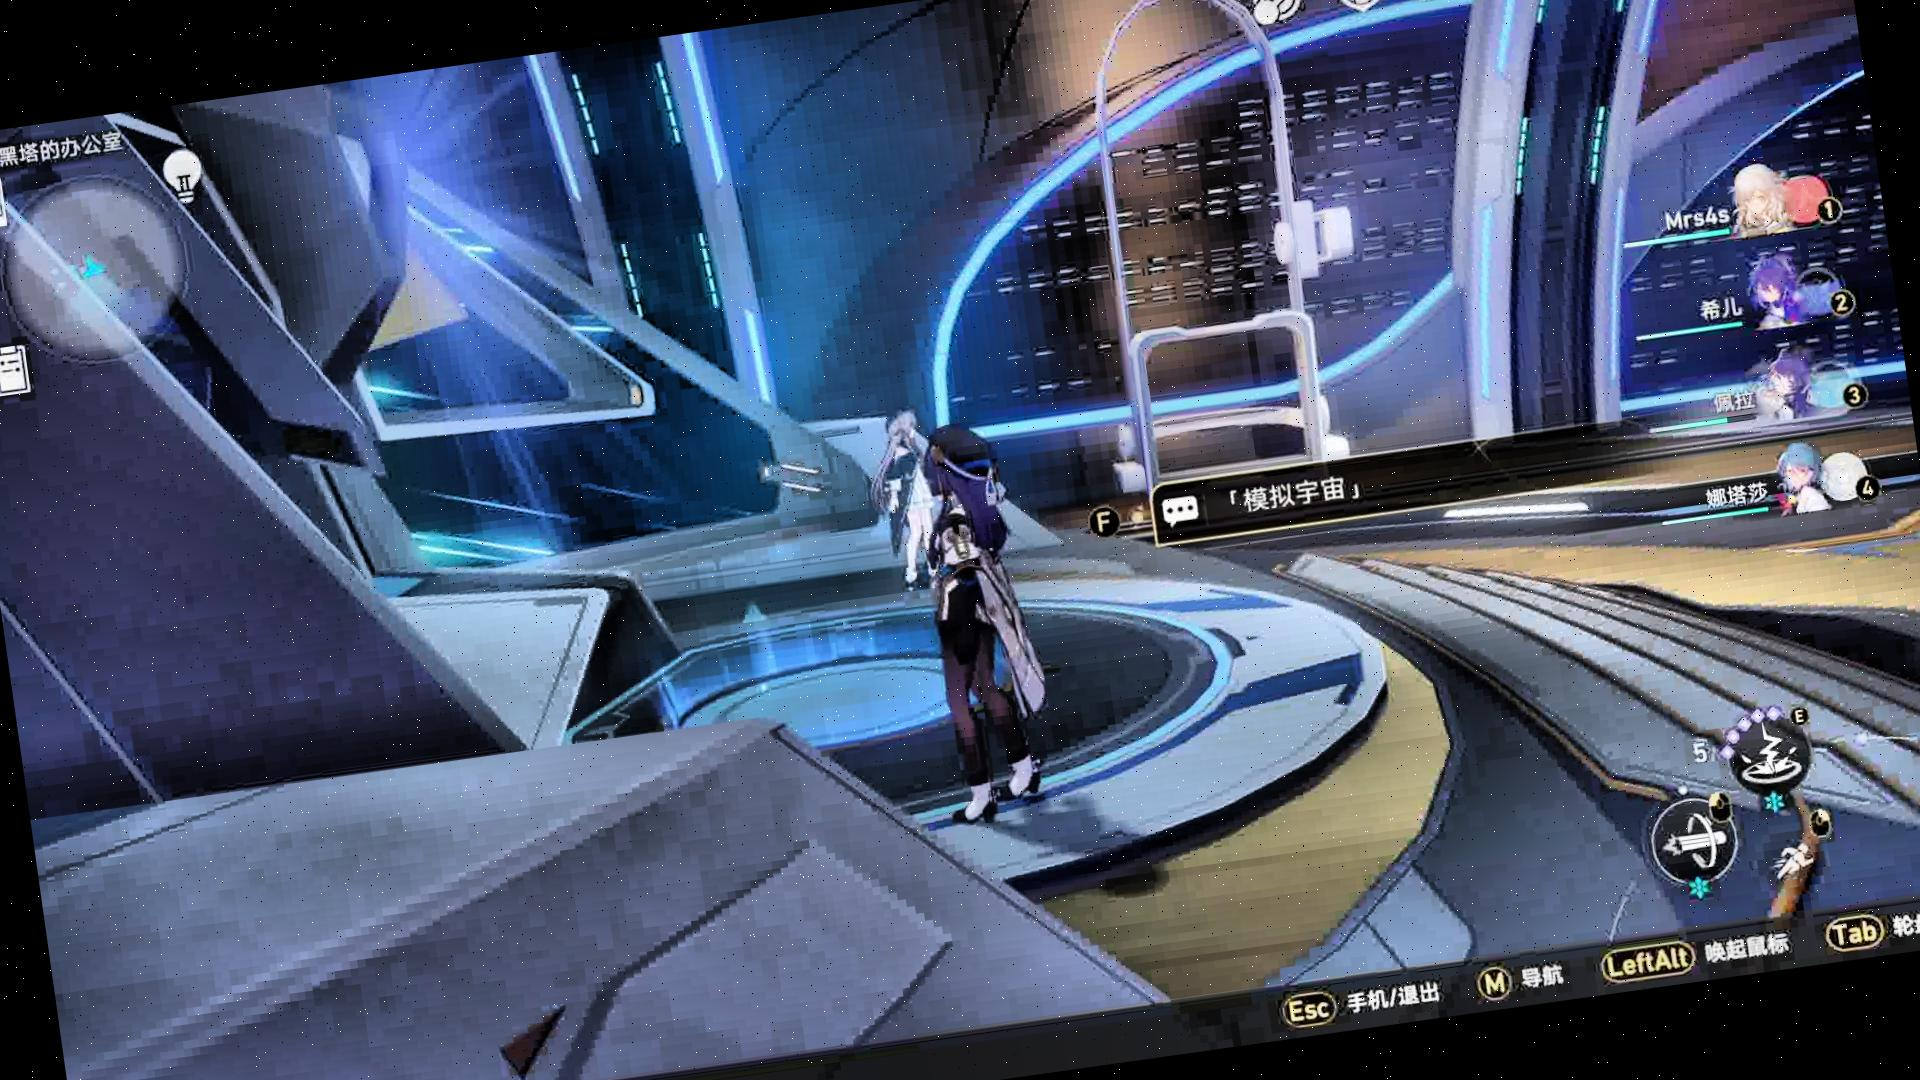Self: (895, 418, 1067, 829)
TeamMate: (858, 402, 944, 585)
